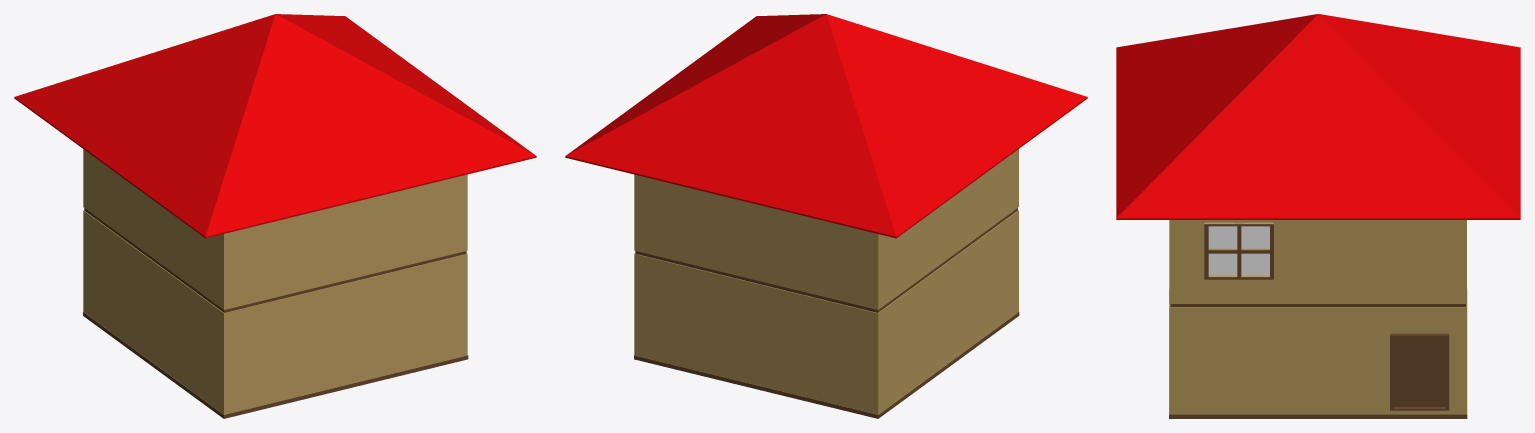
The model's file is house.gltf.
The picture shows the model from 3 angles, left to right: view 1: azimuth 30°, elevation 25°; view 2: azimuth 150°, elevation 25°; view 3: azimuth 270°, elevation 25°; orthographic projection. The views are drawn at different scales.
Visible parts, largest first — view 1: 立方体, 平面, 平面.001; view 2: 立方体, 平面, 平面.001; view 3: 立方体, 平面, 平面.001, 平面.002, 平面.003.
Part boxes in pixels (box(x1,y1,x2,y2)): 立方体: box(14, 14, 536, 238); 平面: box(83, 210, 468, 418); 平面.001: box(83, 149, 467, 312); 立方体: box(565, 14, 1087, 238); 平面: box(634, 210, 1019, 418); 平面.001: box(634, 149, 1018, 312); 立方体: box(1116, 14, 1520, 219); 平面: box(1169, 289, 1467, 418); 平面.001: box(1169, 220, 1466, 306); 平面.002: box(1204, 224, 1273, 279); 平面.003: box(1390, 333, 1449, 410).
Size of the model in its own units: 6.73 by 6.28 by 6.73.
